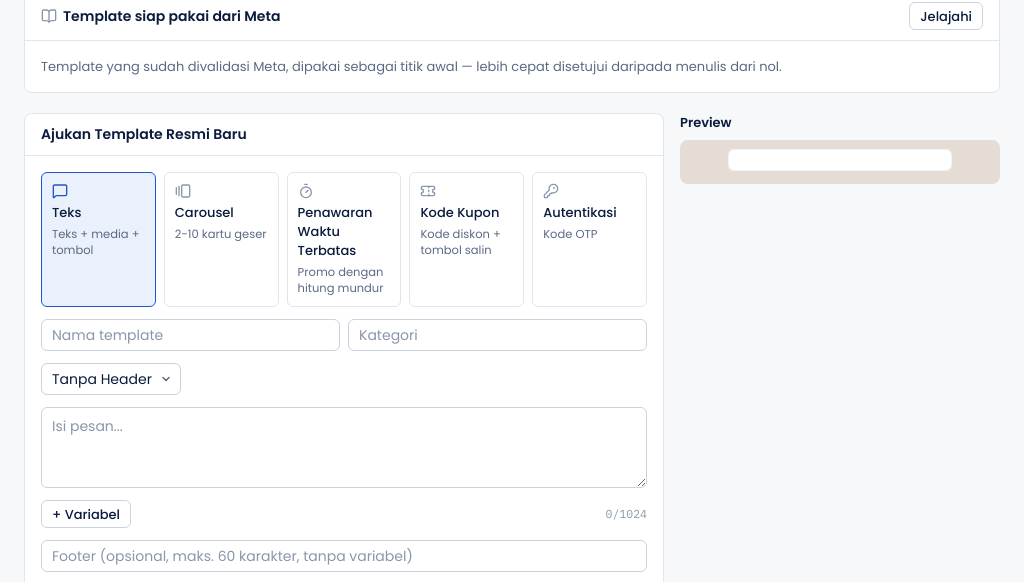
TemplatesPage — LTO builder › disables submission until the offer title is filled in
This screenshot has width=1024, height=582.
Expected: the element named "Format template" is shown, top-left (41, 172), bottom-right (647, 307)
Click the text "Penawaran Waktu Terbatas": (335, 232) top-left (298, 203), bottom-right (372, 260)
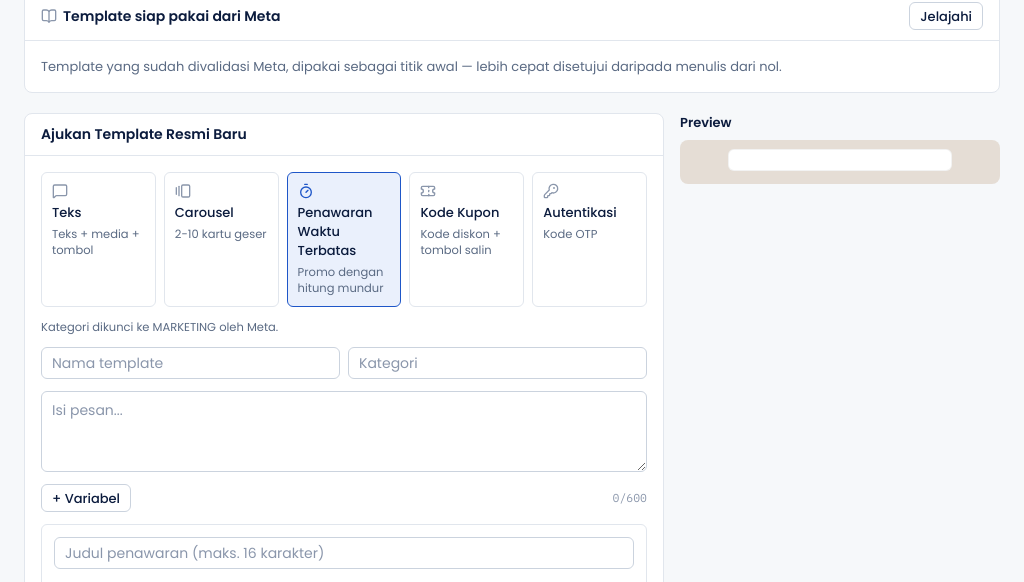
In the field labelled "Nama template": (190, 363) top-left (41, 347), bottom-right (340, 379), type "promo_akhir_tahun"
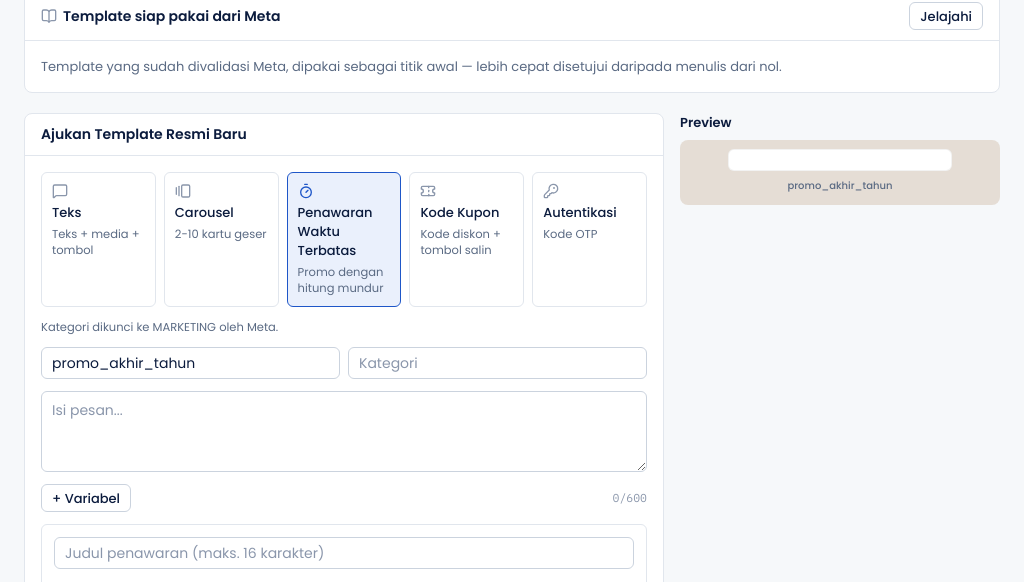
In the text box labelled "Isi pesan": (344, 432) top-left (41, 391), bottom-right (647, 472), type "Nikmati diskon spesial!"
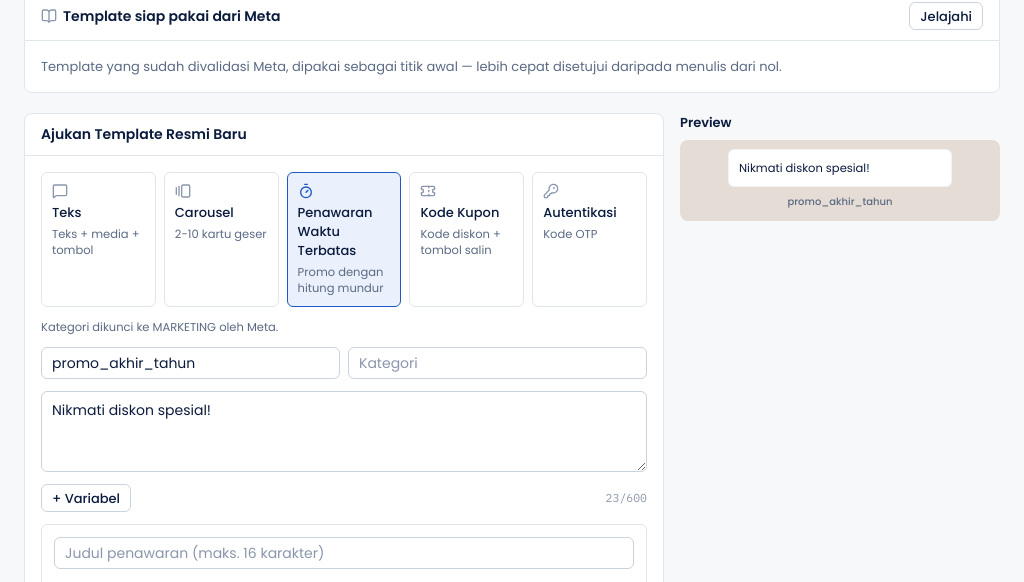
In the field labelled "Judul penawaran": (344, 553) top-left (54, 537), bottom-right (634, 569), type "Diskon 25%"
(page scrolled)
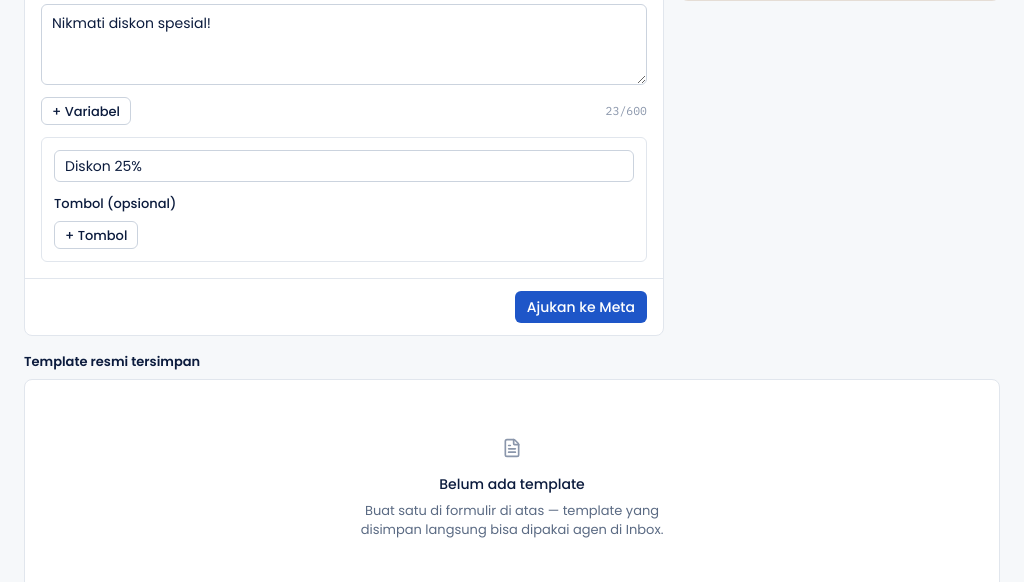
Expected: the button "Ajukan ke Meta" is enabled, top-left (515, 291), bottom-right (647, 323)
